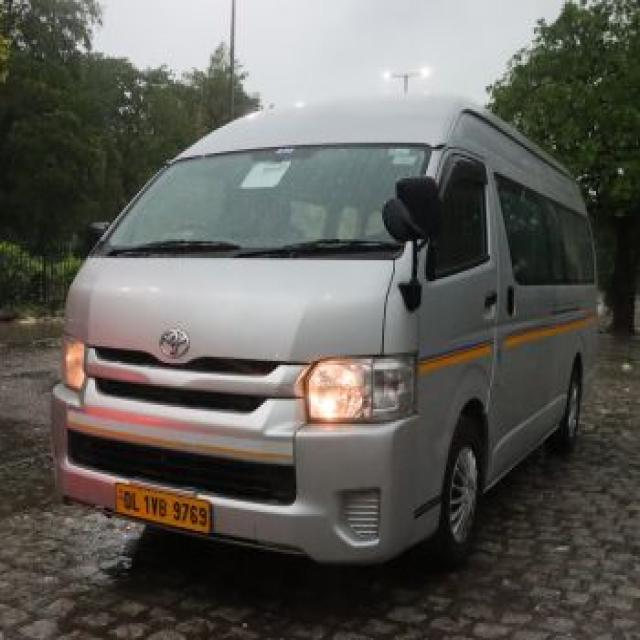bus: (53, 99, 596, 564)
